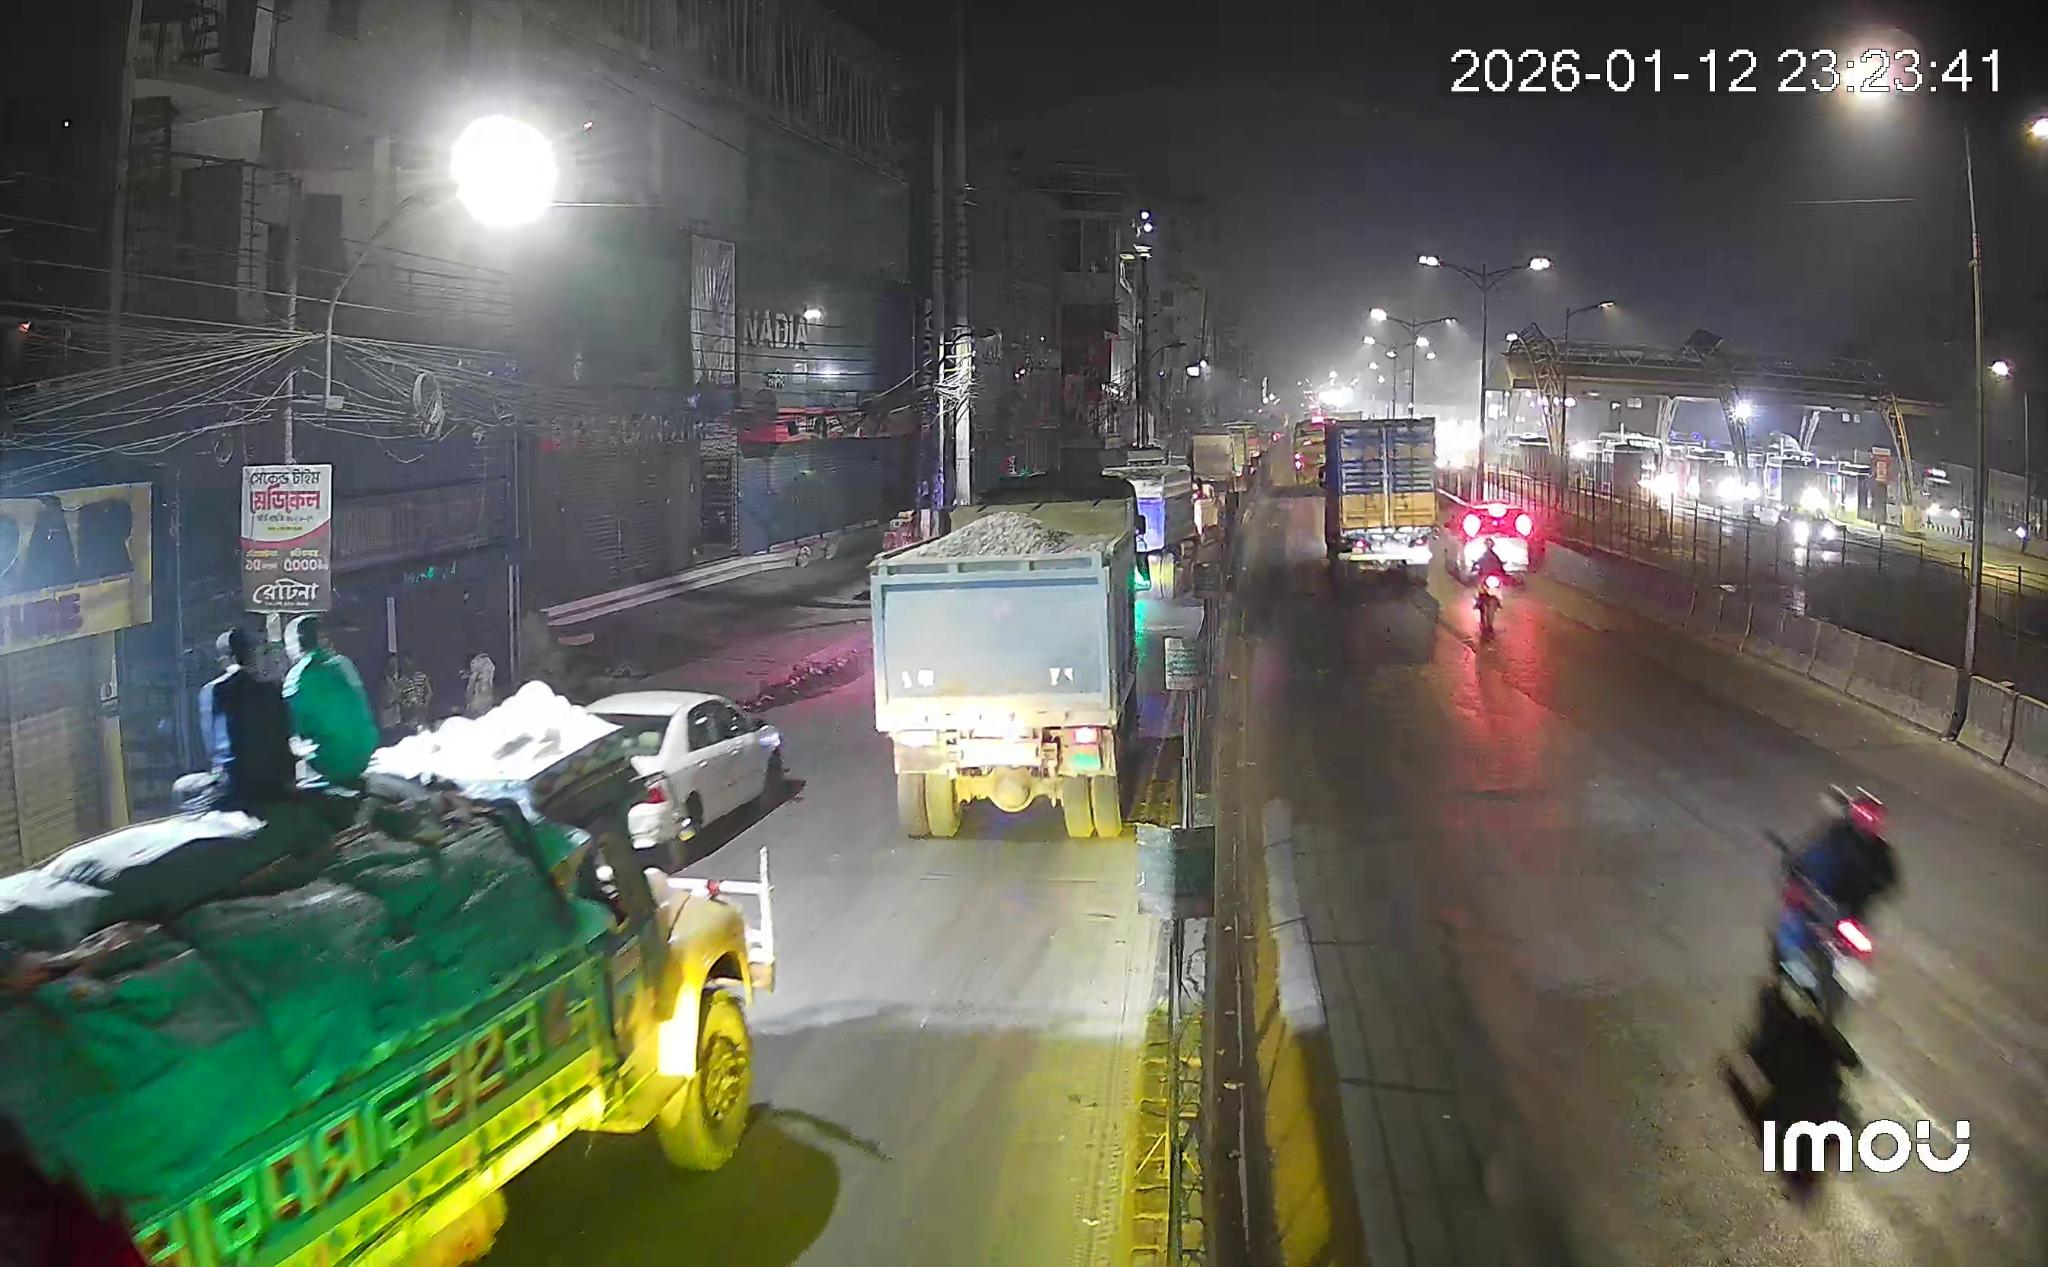Motorcycle: (1770, 787, 1896, 1040), (1475, 544, 1507, 636)
Private-Sedan Car: (591, 691, 784, 851), (1442, 503, 1536, 584)
Truck: (0, 691, 774, 1267), (869, 473, 1147, 838), (1321, 416, 1438, 569), (1106, 464, 1198, 595)
